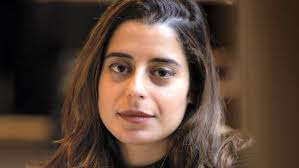middle_eastern_Female: (98, 19, 197, 142)
